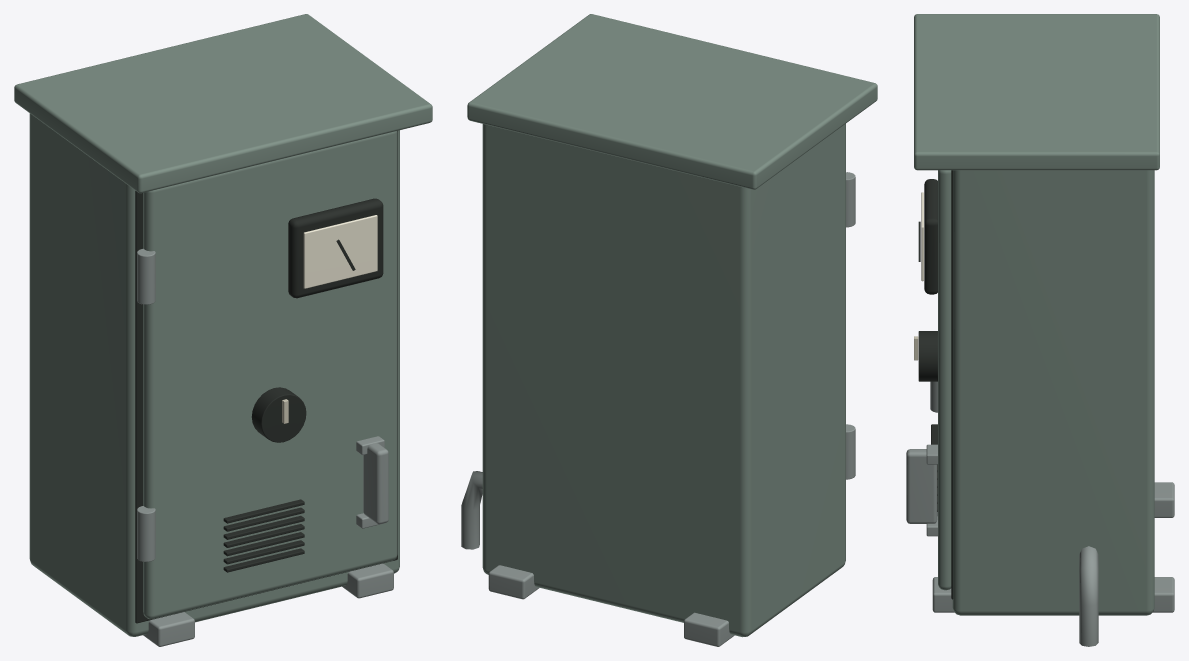
Rendered from CH09_FieldCabinet.fbx.
3 views of the same model, side by side, from view 1: azimuth 30°, elevation 25°; view 2: azimuth 150°, elevation 25°; view 3: azimuth 270°, elevation 25° (orthographic). The views are drawn at different scales.
Visible parts, largest first — view 1: CH09_FieldCabinet_CH09_Green, CH09_FieldCabinet_CH09_Rubber, CH09_FieldCabinet_CH09_Steel, CH09_FieldCabinet_CH09_Paper; view 2: CH09_FieldCabinet_CH09_Green, CH09_FieldCabinet_CH09_Steel; view 3: CH09_FieldCabinet_CH09_Green, CH09_FieldCabinet_CH09_Steel, CH09_FieldCabinet_CH09_Rubber.
Boxes of the visible parts, x1=… form: CH09_FieldCabinet_CH09_Green: x1=14, y1=14, x2=432, y2=636; CH09_FieldCabinet_CH09_Rubber: x1=135, y1=131, x2=397, y2=623; CH09_FieldCabinet_CH09_Steel: x1=137, y1=248, x2=393, y2=646; CH09_FieldCabinet_CH09_Paper: x1=303, y1=215, x2=377, y2=288; CH09_FieldCabinet_CH09_Green: x1=467, y1=14, x2=877, y2=637; CH09_FieldCabinet_CH09_Steel: x1=461, y1=172, x2=855, y2=646; CH09_FieldCabinet_CH09_Green: x1=914, y1=14, x2=1159, y2=615; CH09_FieldCabinet_CH09_Steel: x1=906, y1=381, x2=1174, y2=646; CH09_FieldCabinet_CH09_Rubber: x1=918, y1=170, x2=953, y2=599.
Size of the model in its own units: 86 by 119 by 61.
